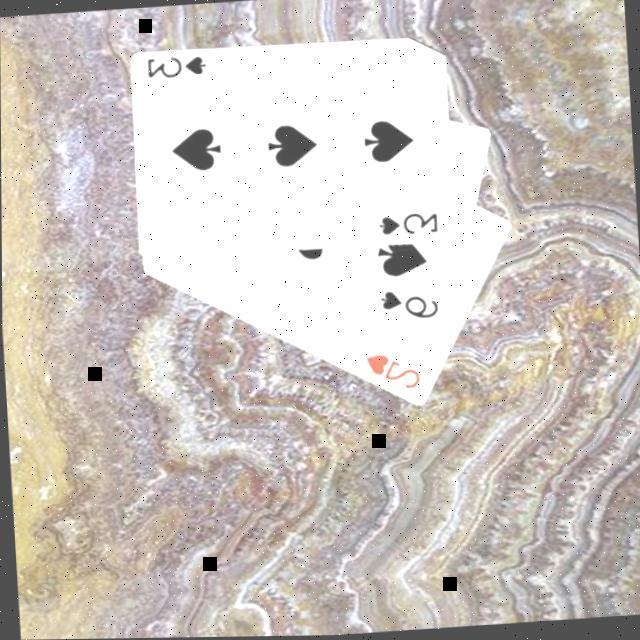2H: (363, 350, 425, 398)
3S: (378, 210, 442, 242), (146, 54, 212, 84)
6S: (378, 287, 444, 327)
